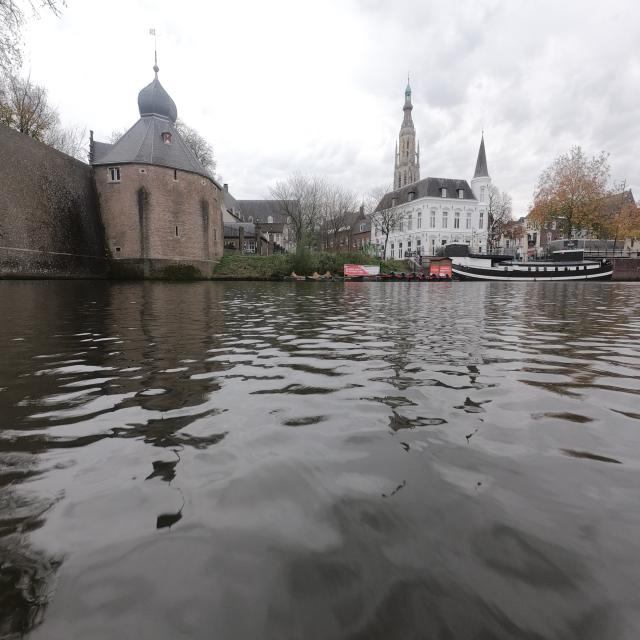boat: (451, 255, 613, 281)
grass: (213, 255, 292, 278)
sky: (23, 0, 640, 216)
wall: (0, 70, 225, 279), (612, 258, 640, 281)
water: (0, 281, 640, 638)
